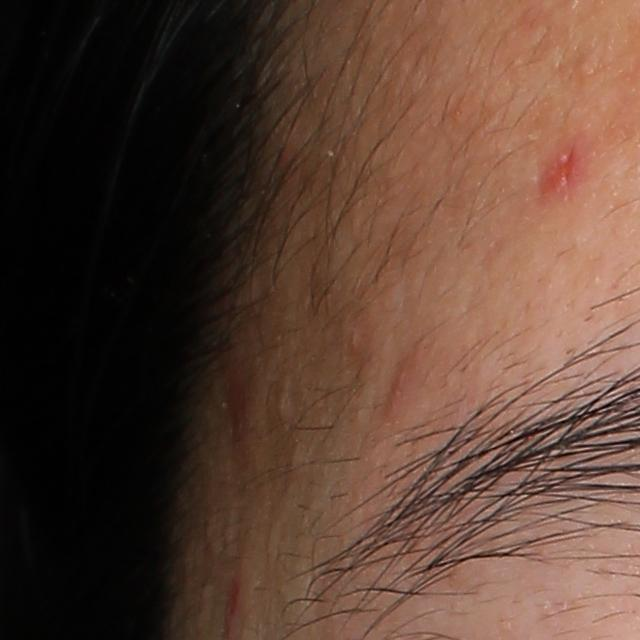comedo: (579, 55, 600, 80)
papule: (386, 359, 414, 417)
